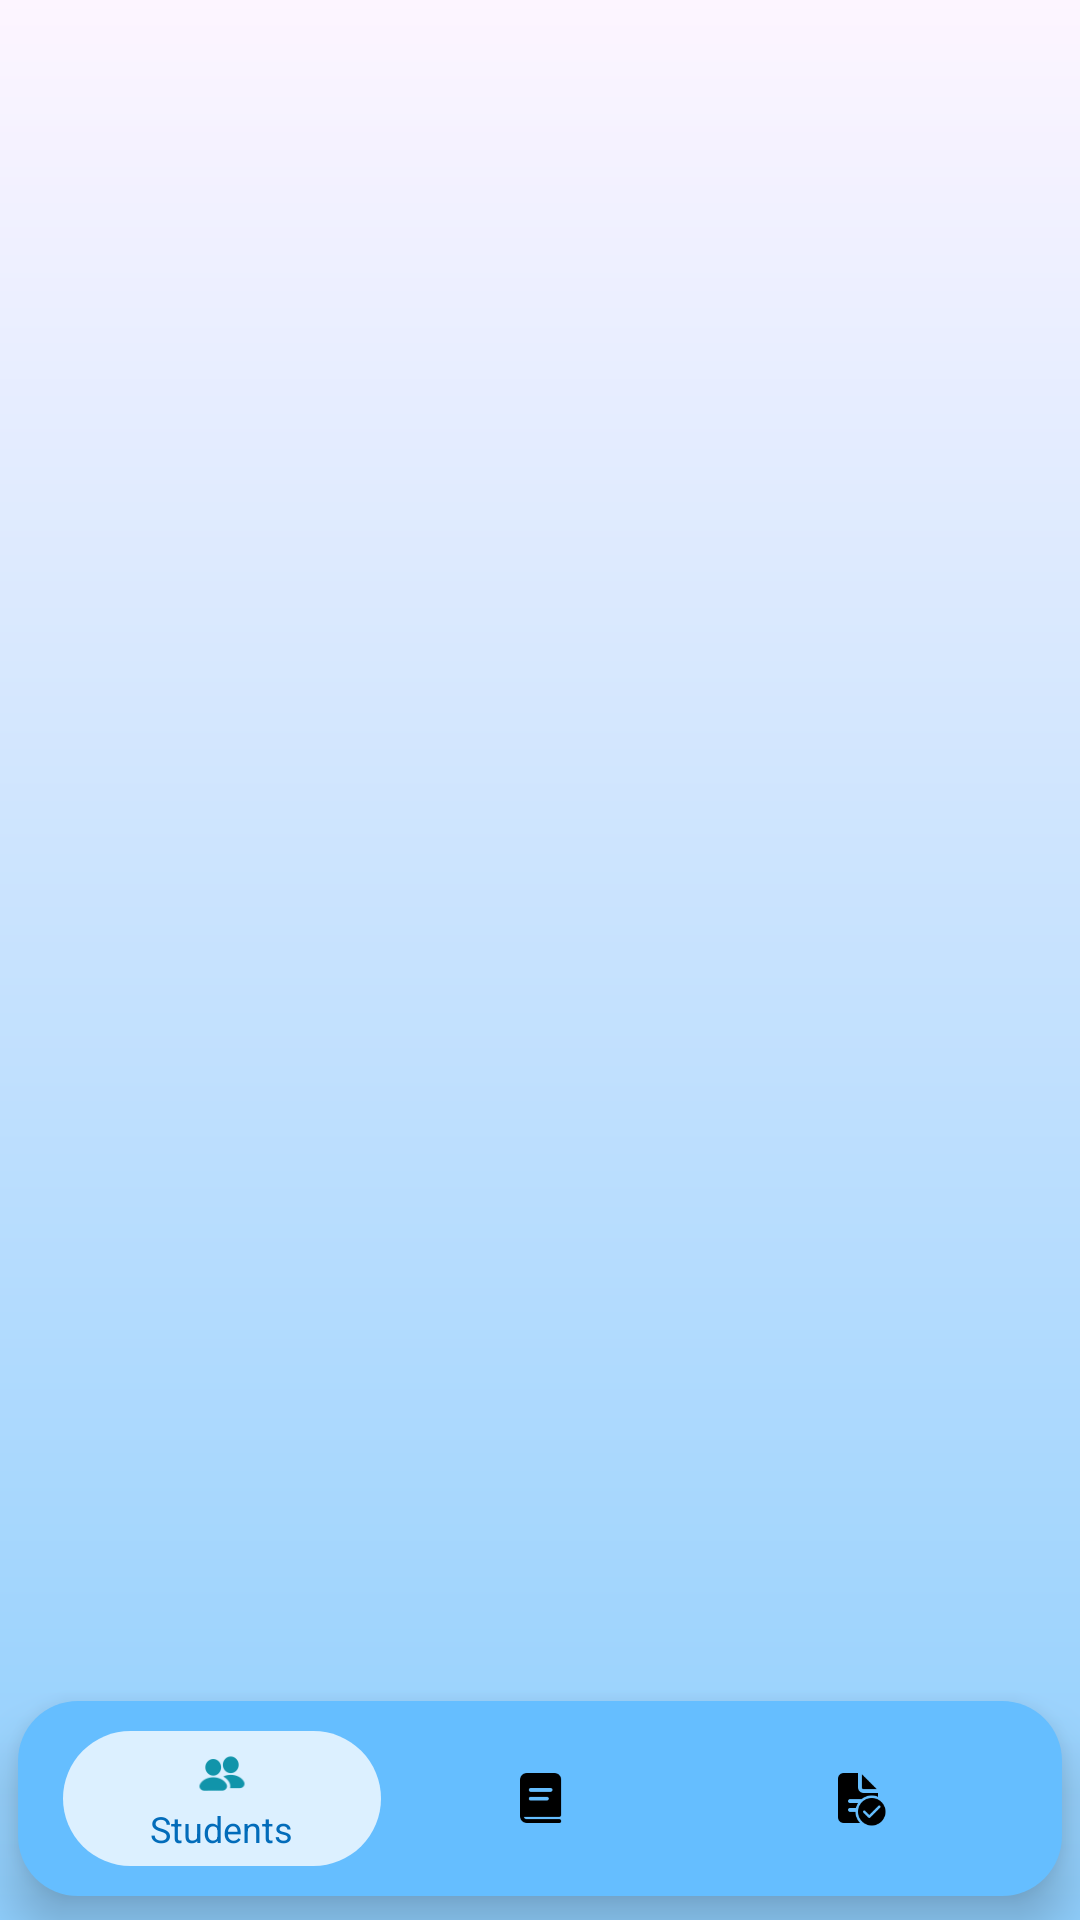

Screen size 1080x1920. Icon name, then its box in pixels as [x1=x1, y1=y1, x2=x2, y2=y2]:
result: [x1=838, y1=1773, x2=886, y2=1826]
subject: [x1=520, y1=1773, x2=562, y2=1823]
user: [x1=199, y1=1756, x2=245, y2=1791]
